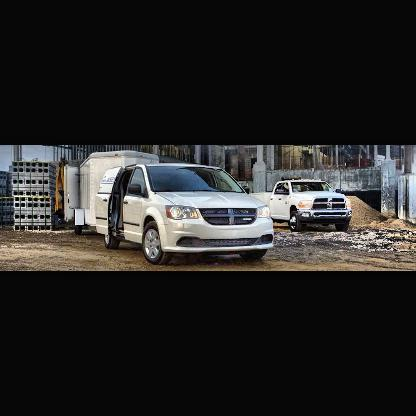Ram C-V Cargo Van Minivan 2012: (94, 162, 275, 264)
